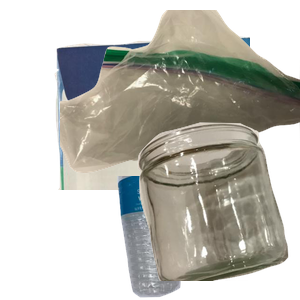glass: (135, 120, 300, 300)
paper: (52, 34, 292, 214)
plastic: (115, 176, 288, 300)
trash: (60, 10, 300, 176)
